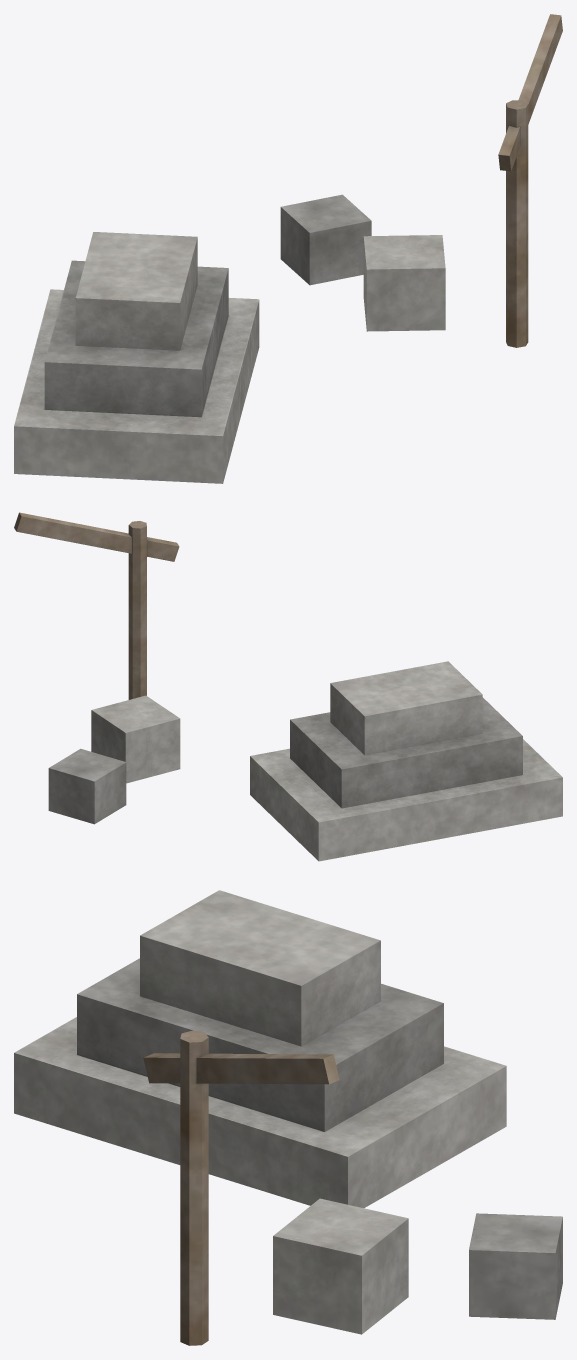
Rendered from res_stone_3.glb.
3 views of the same model, one above another, from view 1: azimuth 30°, elevation 25°; view 2: azimuth 150°, elevation 25°; view 3: azimuth 270°, elevation 25° (orthographic). The views are drawn at different scales.
Visible parts, largest first — view 1: dilek; view 2: dilek; view 3: dilek.
Part boxes in pixels (bbox=[...]): dilek: bbox=[14, 14, 562, 483]; dilek: bbox=[14, 512, 562, 861]; dilek: bbox=[14, 890, 562, 1345].
Bounding box in the file's own units: 1.34 × 0.5608 × 0.8203.
1 material, 1 textured.
